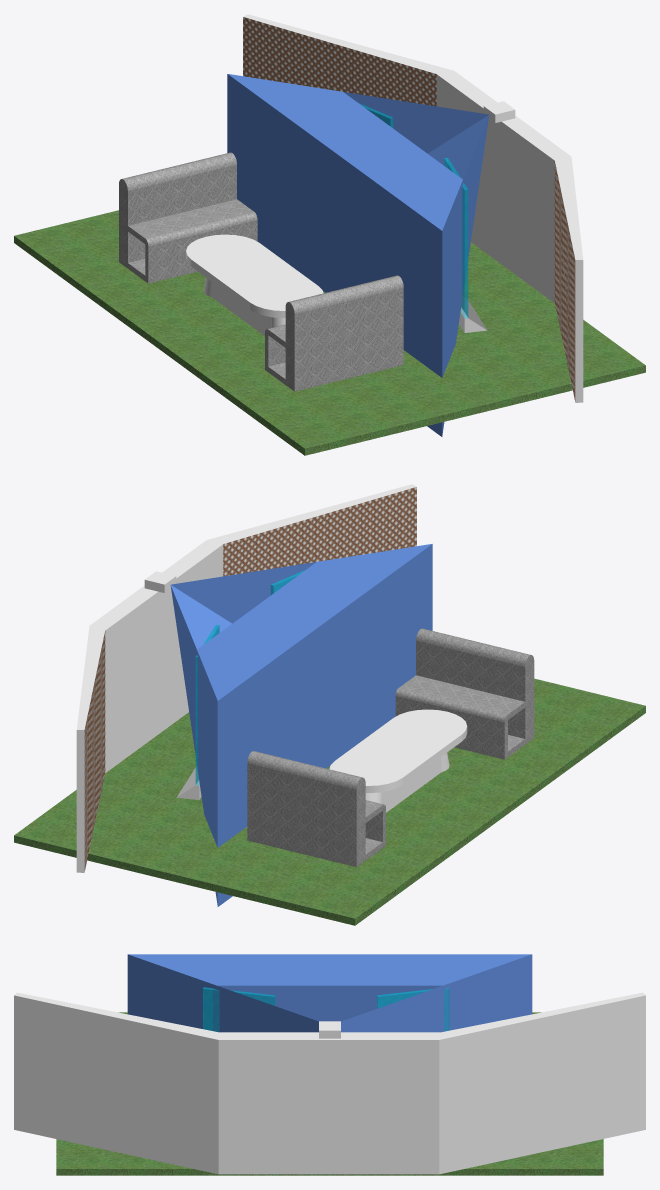
The model's file is set7.obj.
The picture shows the model from 3 angles, top to bottom: view 1: azimuth 30°, elevation 25°; view 2: azimuth 150°, elevation 25°; view 3: azimuth 270°, elevation 25°; orthographic projection. The views are drawn at different scales.
Parts seen in each view (by area): view 1: Mesh3 Componente_5_1 Group1 Componente_39_1 Model, Mesh22 Componente_27_1 Componente_39_1 Model, Mesh24 Componente_28_1 Componente_39_1 Model, Mesh12 Componente_30_2 Componente_39_1 Model, Mesh9 Componente_30_1 Componente_39_1 Model, Mesh15 Componente_31_1 Componente_39_1 Model, Mesh18 Componente_34_2 Componente_32_2 Componente_39_1 Model; view 2: Mesh3 Componente_5_1 Group1 Componente_39_1 Model, Mesh22 Componente_27_1 Componente_39_1 Model, Mesh24 Componente_28_1 Componente_39_1 Model, Mesh9 Componente_30_1 Componente_39_1 Model, Mesh12 Componente_30_2 Componente_39_1 Model, Mesh15 Componente_31_1 Componente_39_1 Model, Mesh5 Componente_34_1 Componente_32_1 Componente_39_1 Model; view 3: Mesh24 Componente_28_1 Componente_39_1 Model, Mesh3 Componente_5_1 Group1 Componente_39_1 Model, Mesh22 Componente_27_1 Componente_39_1 Model, Mesh18 Componente_34_2 Componente_32_2 Componente_39_1 Model, Mesh5 Componente_34_1 Componente_32_1 Componente_39_1 Model, Mesh1 Componente_3_1 Group1 Componente_39_1 Model.
Part boxes in pixels (<box>): Mesh3 Componente_5_1 Group1 Componente_39_1 Model: <box>227,74,489,436</box>; Mesh22 Componente_27_1 Componente_39_1 Model: <box>14,210,645,455</box>; Mesh24 Componente_28_1 Componente_39_1 Model: <box>243,14,583,402</box>; Mesh12 Componente_30_2 Componente_39_1 Model: <box>119,152,257,283</box>; Mesh9 Componente_30_1 Componente_39_1 Model: <box>265,275,403,391</box>; Mesh15 Componente_31_1 Componente_39_1 Model: <box>186,234,323,335</box>; Mesh18 Componente_34_2 Componente_32_2 Componente_39_1 Model: <box>444,157,468,318</box>; Mesh3 Componente_5_1 Group1 Componente_39_1 Model: <box>170,544,432,906</box>; Mesh22 Componente_27_1 Componente_39_1 Model: <box>14,678,645,925</box>; Mesh24 Componente_28_1 Componente_39_1 Model: <box>76,484,416,872</box>; Mesh9 Componente_30_1 Componente_39_1 Model: <box>395,628,534,759</box>; Mesh12 Componente_30_2 Componente_39_1 Model: <box>247,751,385,866</box>; Mesh15 Componente_31_1 Componente_39_1 Model: <box>329,709,467,812</box>; Mesh5 Componente_34_1 Componente_32_1 Componente_39_1 Model: <box>195,625,219,785</box>; Mesh24 Componente_28_1 Componente_39_1 Model: <box>14,992,645,1174</box>; Mesh3 Componente_5_1 Group1 Componente_39_1 Model: <box>127,954,532,1032</box>; Mesh22 Componente_27_1 Componente_39_1 Model: <box>56,1012,603,1175</box>; Mesh18 Componente_34_2 Componente_32_2 Componente_39_1 Model: <box>203,987,275,1032</box>; Mesh5 Componente_34_1 Componente_32_1 Componente_39_1 Model: <box>377,988,449,1031</box>; Mesh1 Componente_3_1 Group1 Componente_39_1 Model: <box>319,1021,340,1038</box>.
Bounding box in the file's own units: 5175 × 2950 × 8522.
